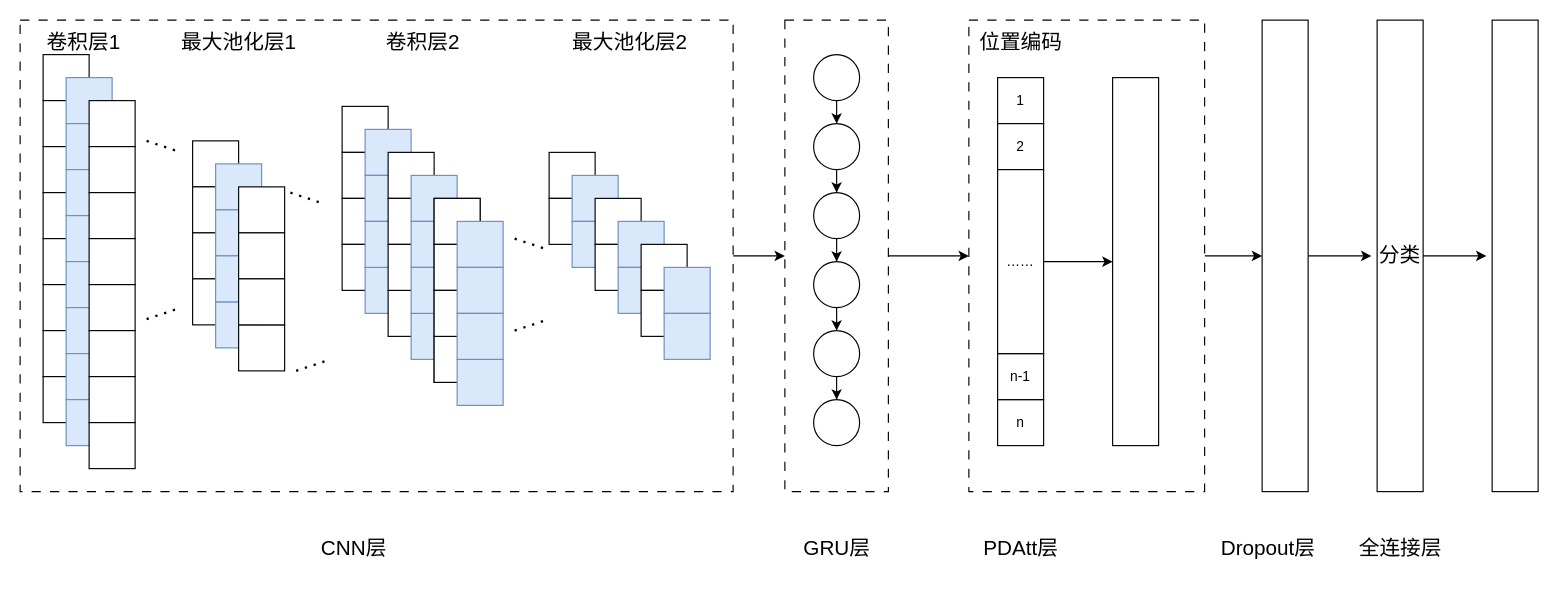
Image size: 1558x592. Some labels were removed from this diagram. Each missing label, with the centre of its shape:
动态权重生成: point (1135, 261)
随机丢弃部分神经元: point (1284, 255)
风机叶片结冰诊断结果输出: point (1514, 255)
